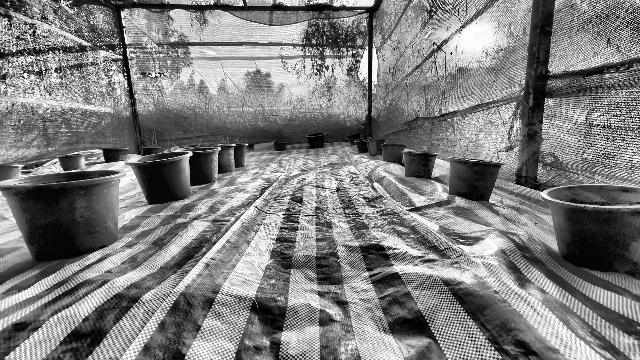pot: (0, 170, 124, 262), (541, 184, 640, 272), (125, 151, 191, 204), (447, 157, 504, 202), (184, 146, 221, 188), (403, 150, 438, 178), (216, 144, 235, 176), (381, 144, 406, 165), (58, 153, 86, 171), (234, 142, 250, 169), (0, 164, 23, 181)
